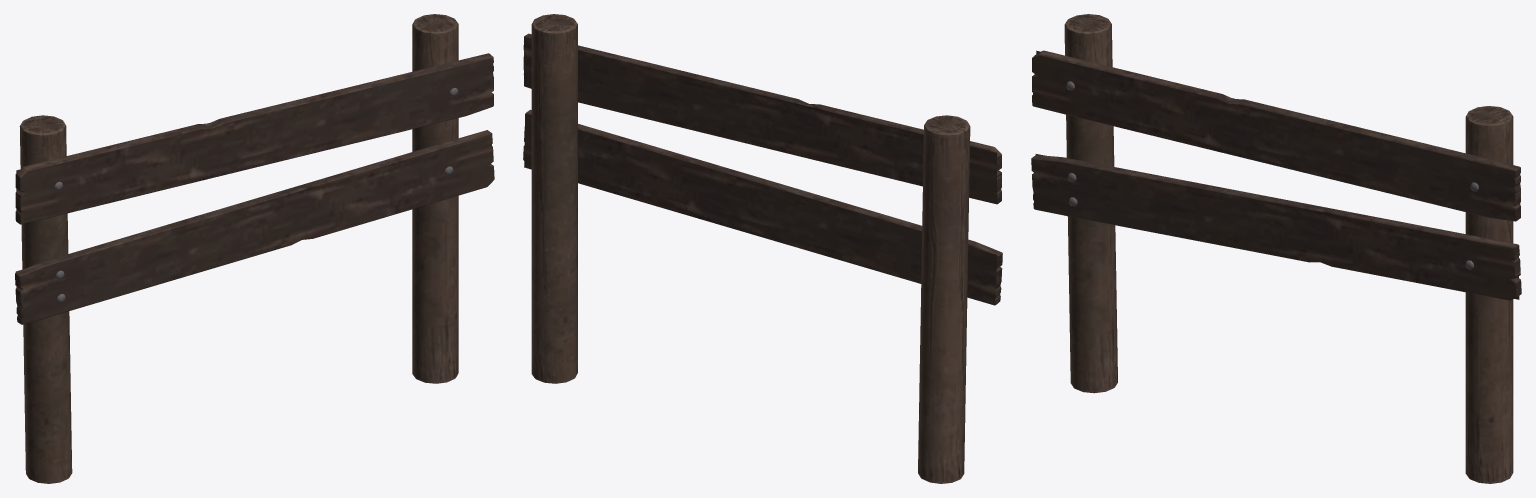
The model's file is Fence01.glb.
3 views of the same model, side by side, from view 1: azimuth 30°, elevation 25°; view 2: azimuth 150°, elevation 25°; view 3: azimuth 330°, elevation 25° (orthographic). The views are drawn at different scales.
Parts seen in each view (by area): view 1: FenceA; view 2: FenceA; view 3: FenceA.
Part boxes in pixels (bbox=[...]): FenceA: bbox=[15, 14, 494, 483]; FenceA: bbox=[523, 14, 1002, 483]; FenceA: bbox=[1031, 14, 1521, 483].
Size of the model in its own units: 1.69 by 1.21 by 0.18.
Materials: 2 (2 with a texture image).
